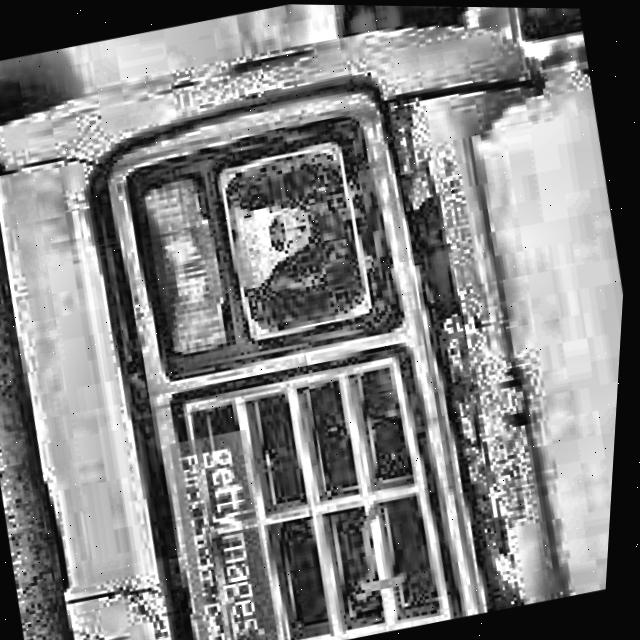head_lamp: (111, 83, 526, 640)
